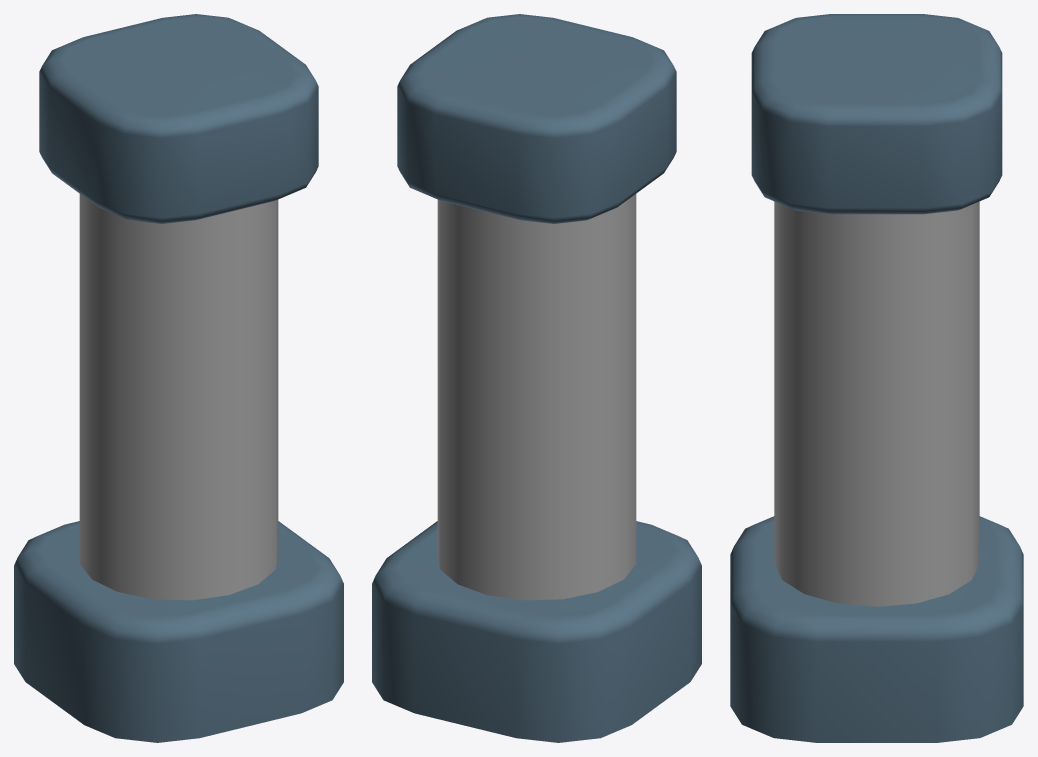
File: Env1_Pillar.fbx
3 renders of one model, left to right at view 1: azimuth 30°, elevation 25°; view 2: azimuth 150°, elevation 25°; view 3: azimuth 270°, elevation 25°, orthographic. The views are drawn at different scales.
Parts seen in each view (by area): view 1: Env_Pillar; view 2: Env_Pillar; view 3: Env_Pillar.
Boxes of the visible parts, left/top/right/bottom form: Env_Pillar: left=14, top=14, right=343, bottom=742; Env_Pillar: left=372, top=14, right=701, bottom=742; Env_Pillar: left=730, top=14, right=1023, bottom=742.
Bounding box in the file's own units: 85.28 × 199 × 85.28.
